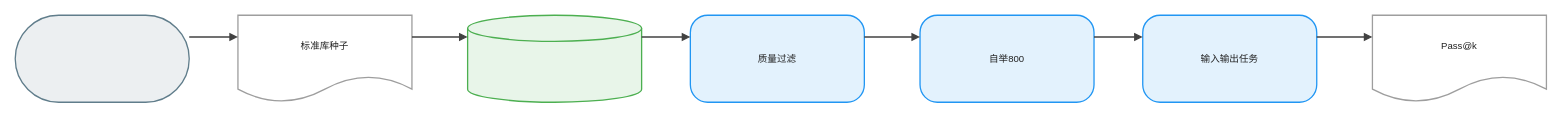
Some shapes in this 1563 by 118 pixel diagram are drawn without their labels. Each missing label, with the centre of its shape:
"Code Llama" belongs at point 101,58.
"输入输出对" belongs at point 554,58.
